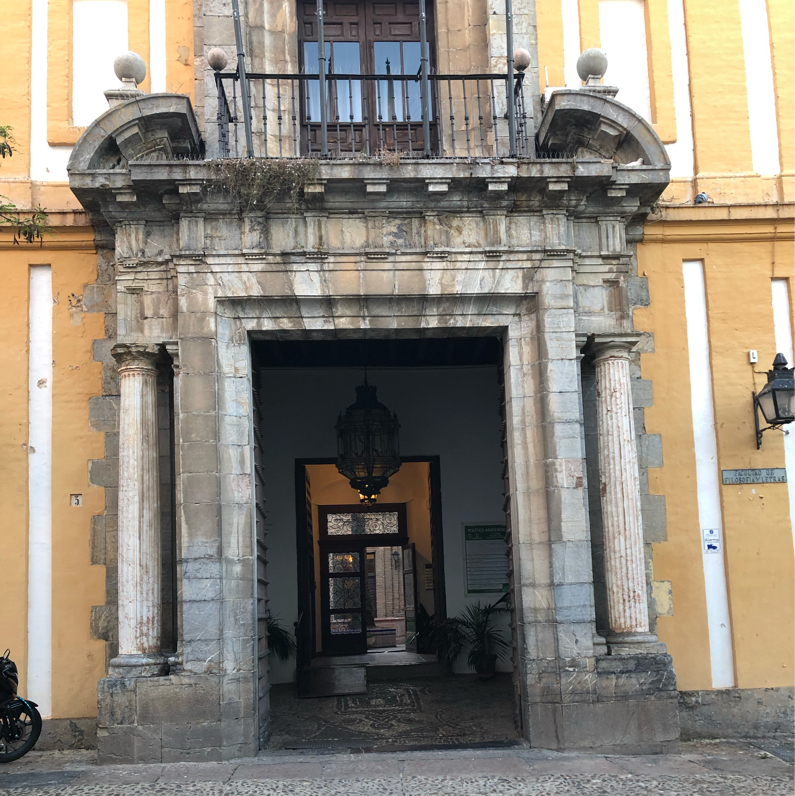fronton-partido: (80, 86, 671, 214)
vano-adintelado: (194, 282, 556, 749)
